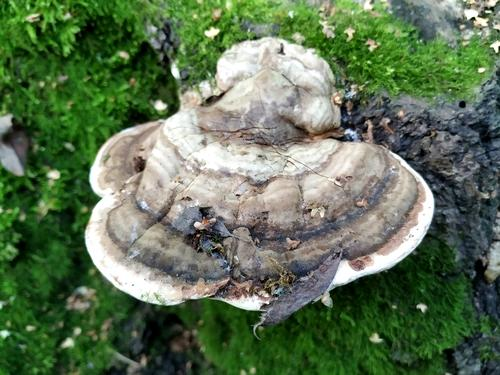Ganoderma - Fruit Body: (81, 127, 438, 317)
